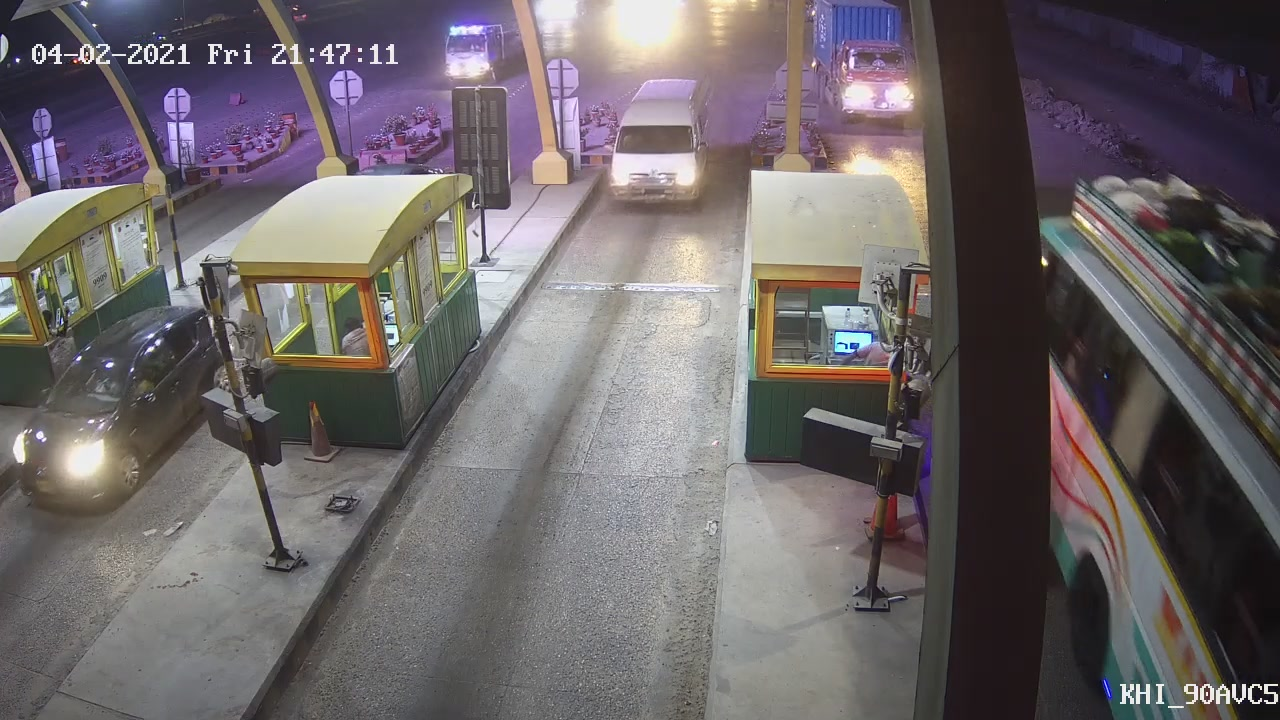F2: (598, 76, 722, 210)
